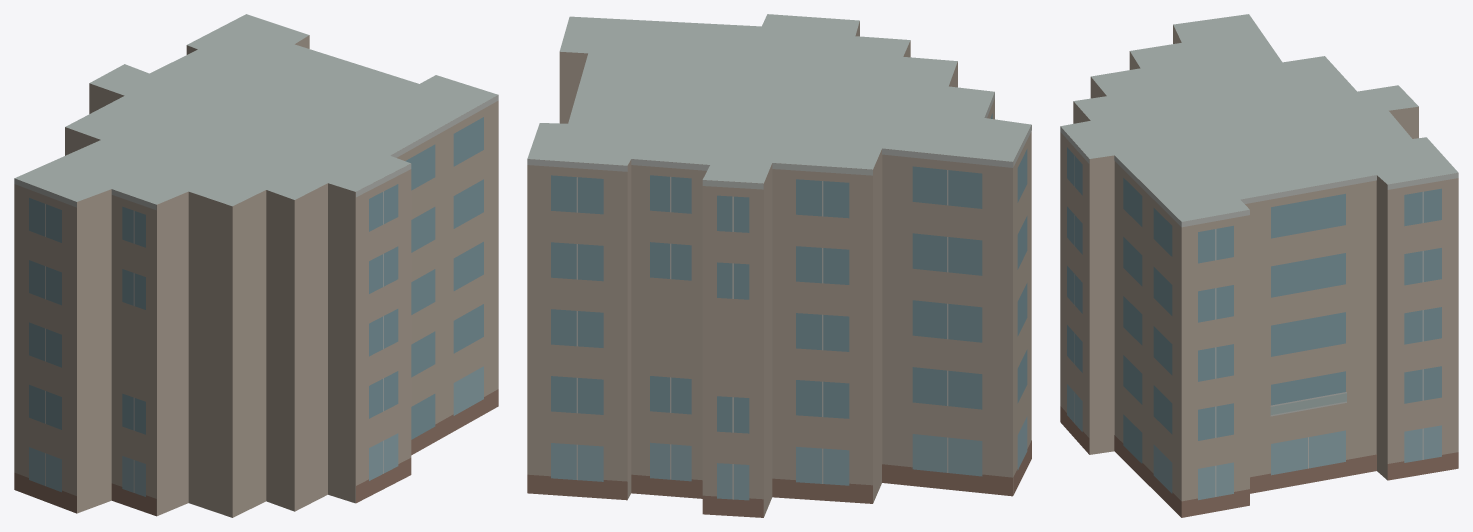
Rendered from survey-upis-32595426.glb.
3 renders of one model, left to right at view 1: azimuth 30°, elevation 25°; view 2: azimuth 150°, elevation 25°; view 3: azimuth 270°, elevation 25°, orthographic. The views are drawn at different scales.
Visible parts, largest first — view 1: survey-upis-32595426.tmp; view 2: survey-upis-32595426.tmp; view 3: survey-upis-32595426.tmp.
Part boxes in pixels (x1,y1,x2,y2): survey-upis-32595426.tmp: (14, 14, 498, 517); survey-upis-32595426.tmp: (527, 14, 1031, 517); survey-upis-32595426.tmp: (1060, 14, 1458, 517).
Bounding box in the file's own units: 20.2 × 13.4 × 16.35.
